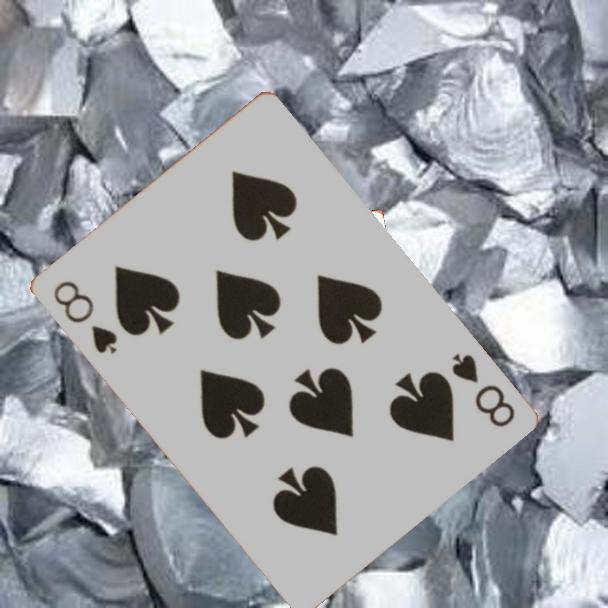s08: (447, 349, 518, 431), (49, 277, 120, 357)
